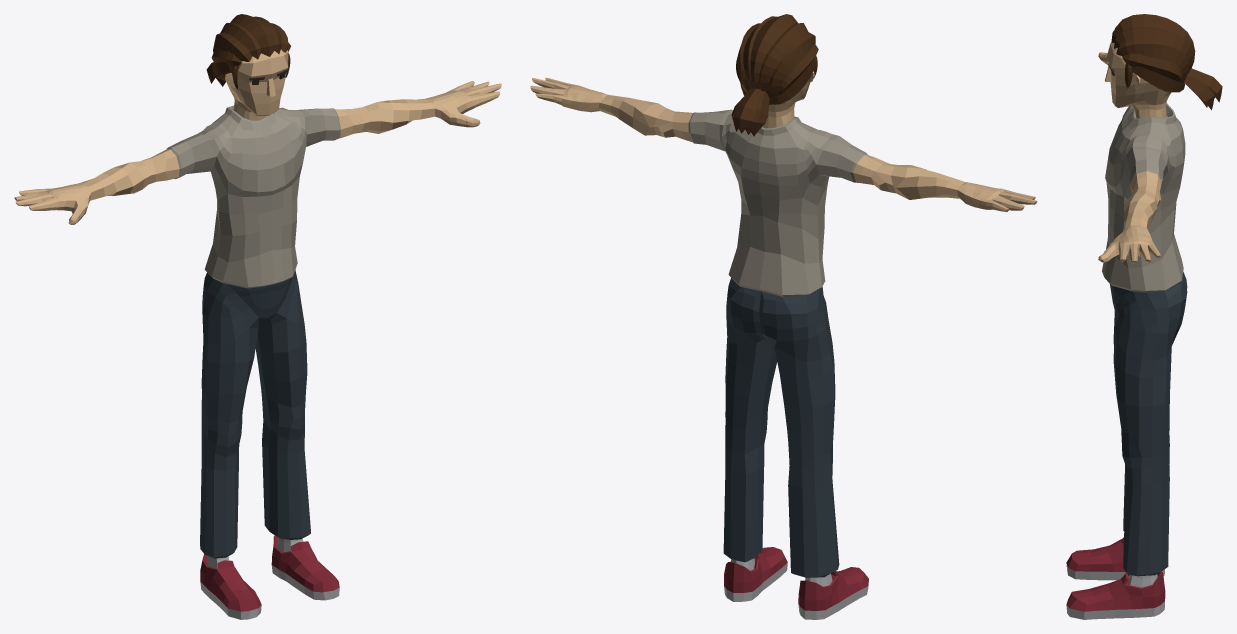
File: man-casual.glb
The picture shows the model from 3 angles, left to right: view 1: azimuth 30°, elevation 25°; view 2: azimuth 150°, elevation 25°; view 3: azimuth 270°, elevation 25°; orthographic projection. The views are drawn at different scales.
Visible parts, largest first — view 1: Casual2_Body, Casual2_Legs, Casual2_Head, Casual2_Feet; view 2: Casual2_Body, Casual2_Legs, Casual2_Head, Casual2_Feet; view 3: Casual2_Legs, Casual2_Body, Casual2_Head, Casual2_Feet.
Boxes of the visible parts, x1=… form: Casual2_Body: x1=14, y1=81, x2=501, y2=288; Casual2_Legs: x1=200, y1=270, x2=310, y2=558; Casual2_Head: x1=206, y1=14, x2=290, y2=120; Casual2_Feet: x1=200, y1=535, x2=339, y2=619; Casual2_Body: x1=530, y1=77, x2=1037, y2=297; Casual2_Legs: x1=723, y1=278, x2=839, y2=577; Casual2_Head: x1=731, y1=14, x2=818, y2=136; Casual2_Feet: x1=724, y1=547, x2=868, y2=619; Casual2_Legs: x1=1110, y1=272, x2=1187, y2=576; Casual2_Body: x1=1098, y1=52, x2=1185, y2=292; Casual2_Head: x1=1105, y1=14, x2=1222, y2=118; Casual2_Feet: x1=1066, y1=537, x2=1165, y2=619.
Size of the model in its own units: 1.68 by 1.86 by 0.4547.
